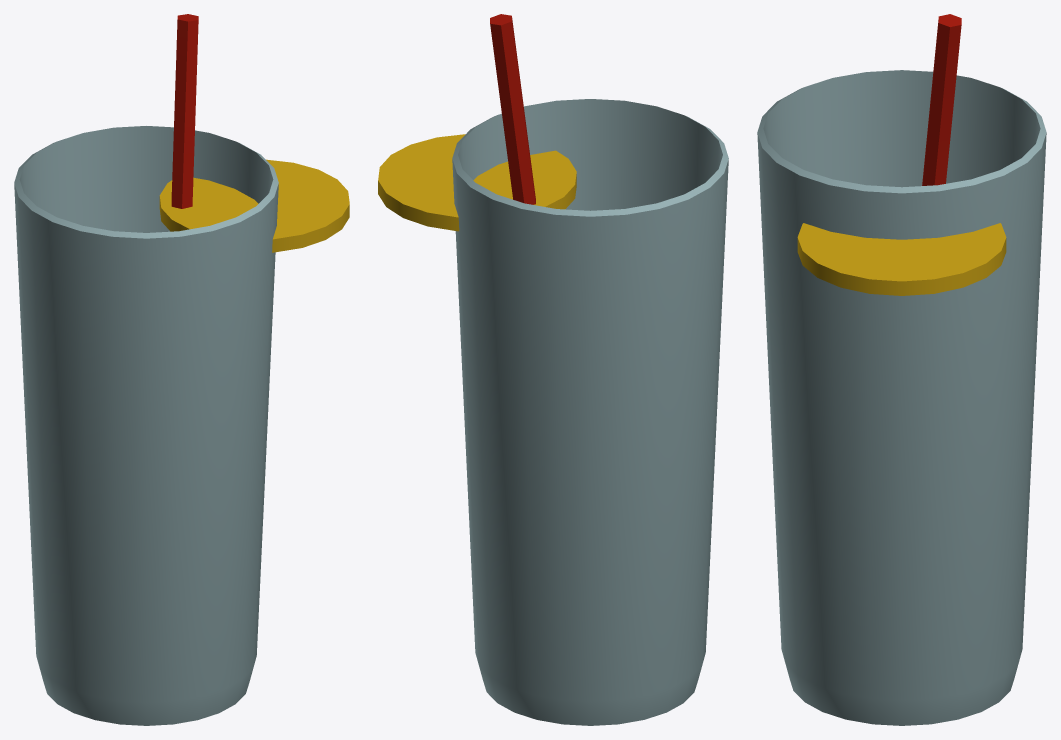
Rendered from food-lemon-soda-s3.glb.
3 renders of one model, left to right at view 1: azimuth 30°, elevation 25°; view 2: azimuth 150°, elevation 25°; view 3: azimuth 270°, elevation 25°, orthographic. The views are drawn at different scales.
Visible parts, largest first — view 1: glass__glass, lemon__food, straw__plastic; view 2: glass__glass, lemon__food, straw__plastic; view 3: glass__glass, lemon__food, straw__plastic.
Boxes of the visible parts, <box> form: glass__glass: <box>14,126,278,725</box>; lemon__food: <box>159,159,349,252</box>; straw__plastic: <box>171,14,198,208</box>; glass__glass: <box>452,99,728,725</box>; lemon__food: <box>378,134,576,231</box>; straw__plastic: <box>490,14,535,204</box>; glass__glass: <box>757,70,1046,725</box>; lemon__food: <box>797,223,1006,295</box>; straw__plastic: <box>922,14,961,185</box>.
Size of the model in its own units: 0.096 by 0.1905 by 0.072.
